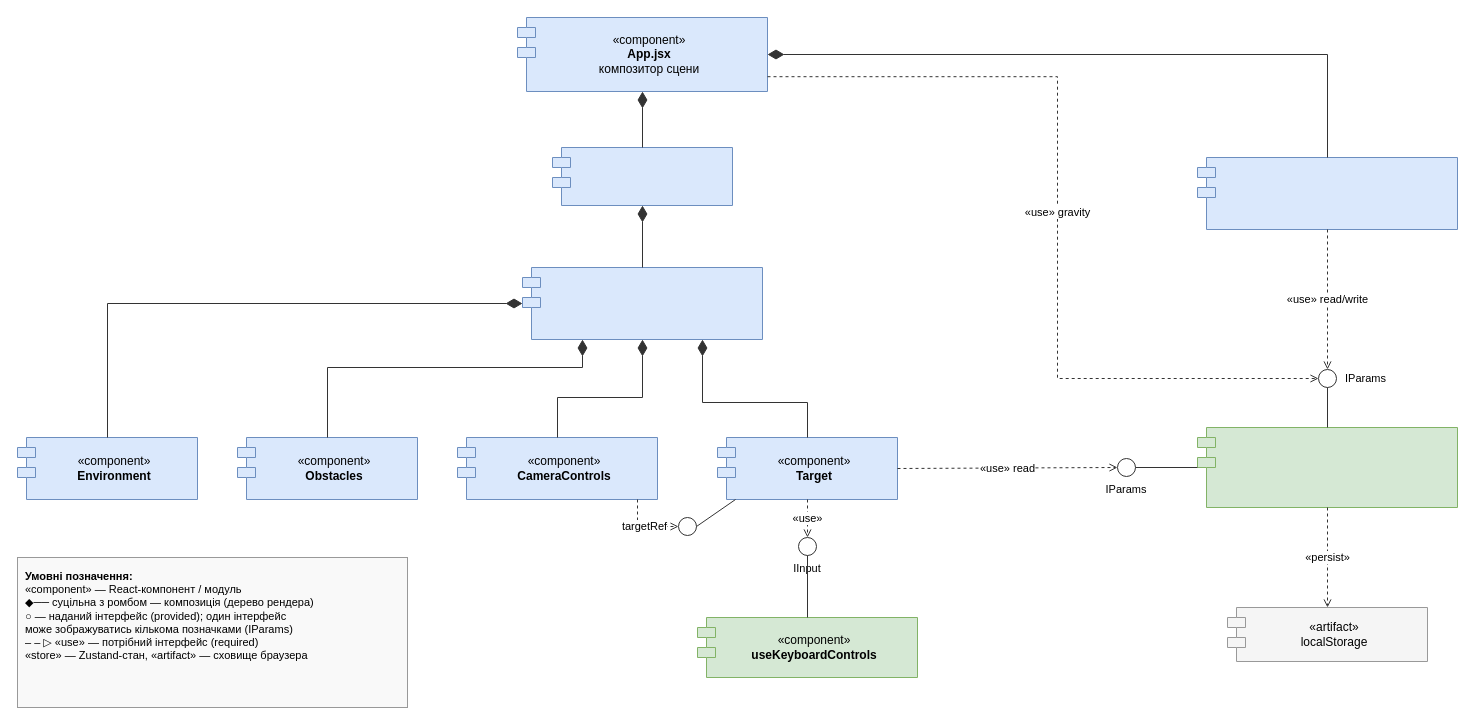
This 1475x725 diagram has some shape labels left out. Here are the shapes that lost their labels. From the top down, the centre of each, then its label:
At point (642, 176): "«component» Canvas (R3F)".
At point (1327, 193): "«component» ParamPanel HTML-оверлей".
At point (642, 303): "«component» Physics Rapier-провайдер".
At point (1327, 467): "«store» useTargetParams Zustand + persist".
At point (687, 526): "ITargetHandle".
